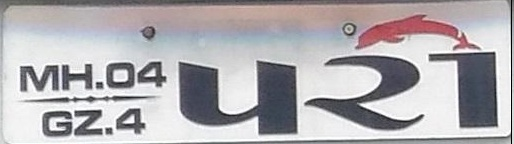character: (427, 49, 499, 131), (17, 64, 60, 91), (60, 61, 93, 92), (73, 107, 103, 138), (105, 60, 136, 89), (136, 60, 167, 89), (41, 109, 73, 137), (115, 107, 147, 134)
